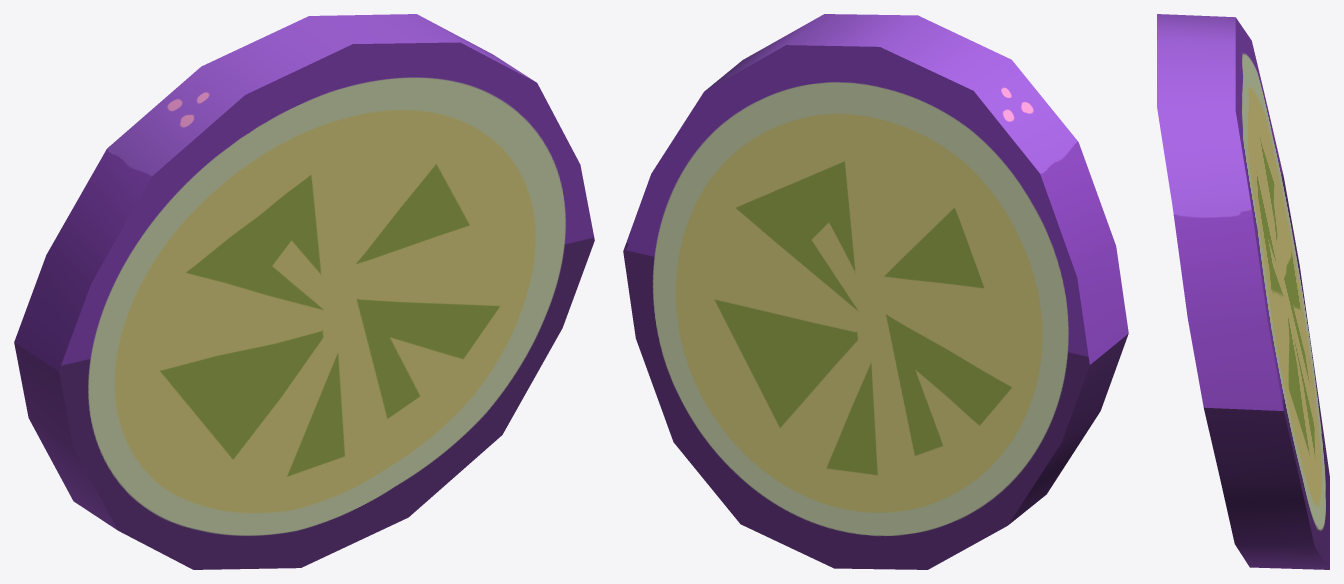
Rendered from eggplantSlice4_-_resized.fbx.
3 views of the same model, side by side, from view 1: azimuth 30°, elevation 25°; view 2: azimuth 150°, elevation 25°; view 3: azimuth 270°, elevation 25° (orthographic). The views are drawn at different scales.
Visible parts, largest first — view 1: eggplantSlice; view 2: eggplantSlice; view 3: eggplantSlice.
Boxes of the visible parts, box(x1,y1,x2,y2) form: eggplantSlice: box(14, 14, 594, 569); eggplantSlice: box(623, 14, 1128, 569); eggplantSlice: box(1157, 14, 1329, 569).
Bounding box in the file's own units: 94.93 × 95.58 × 29.56.
Materials: 1 (1 with a texture image).
